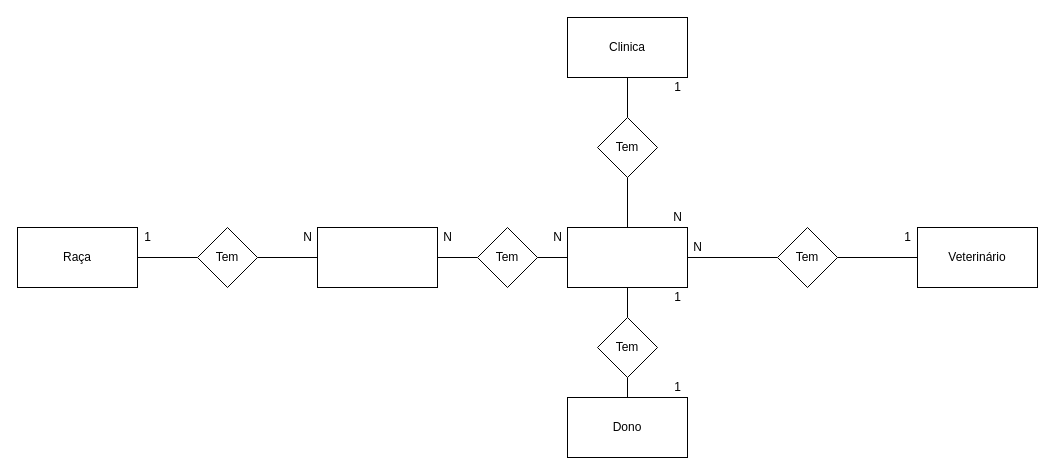
Some shapes in this 1055 by 475 pixel diagram are drawn without their labels. The shapes that lost their labels are listed below. From the top down, each one's box as (x1, y1, x2, y2) in pixels, then its label:
(316, 226, 438, 288): Tipo
(566, 226, 688, 288): Pets
